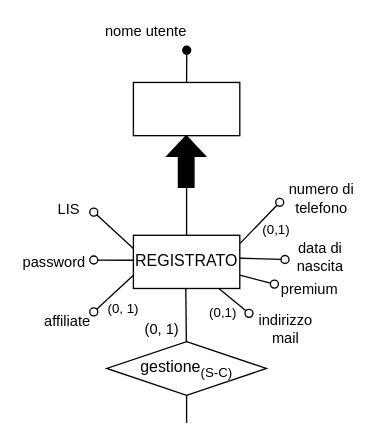
Image size: 376x448. Some labels were removed from this diagram. The shapes that lost their labels are listed below. From the top down, each one's centre as x and y in pixels, then its label:
the point at 186,108: UTENTE
the point at 185,160: (e)
